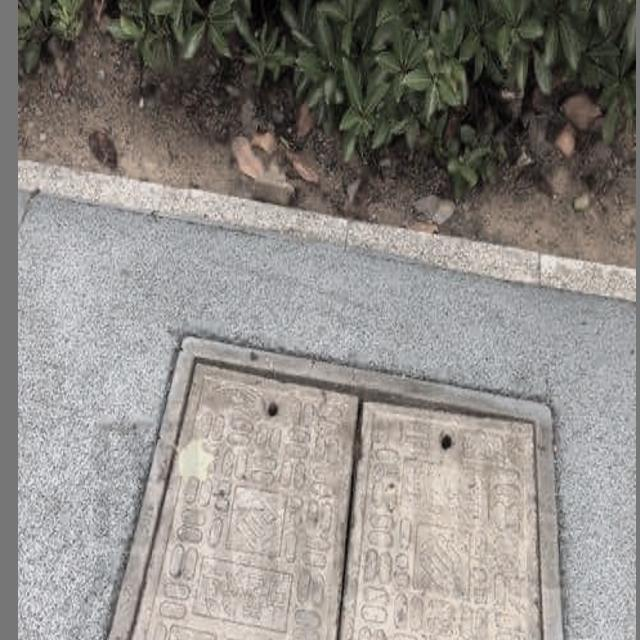good: (94, 330, 573, 640)
